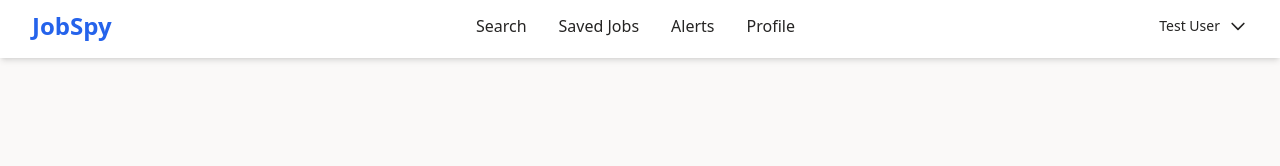
Test: Navigation Component › Authentication state › should show logout button when authenticated
Click the button "Test User" at (1204, 26), box [1159,16,1248,36]
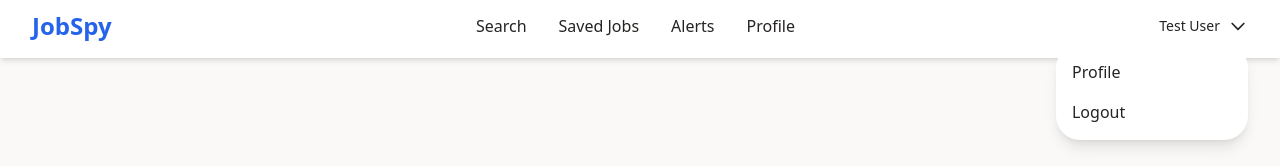
Expected: the text "Logout" is shown, [1056,92,1248,132]
